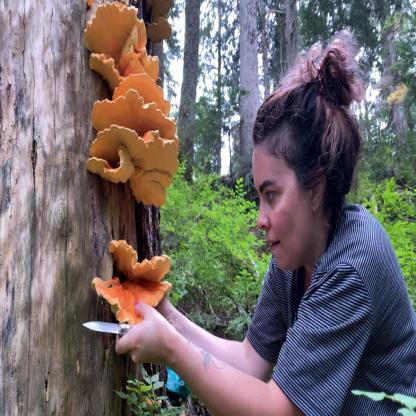CoW: (84, 0, 181, 209), (90, 238, 174, 326)
